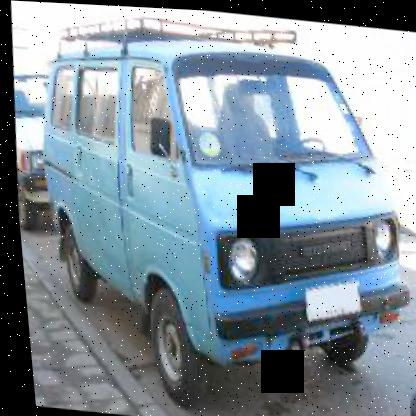not_emergency: (18, 11, 415, 398)
